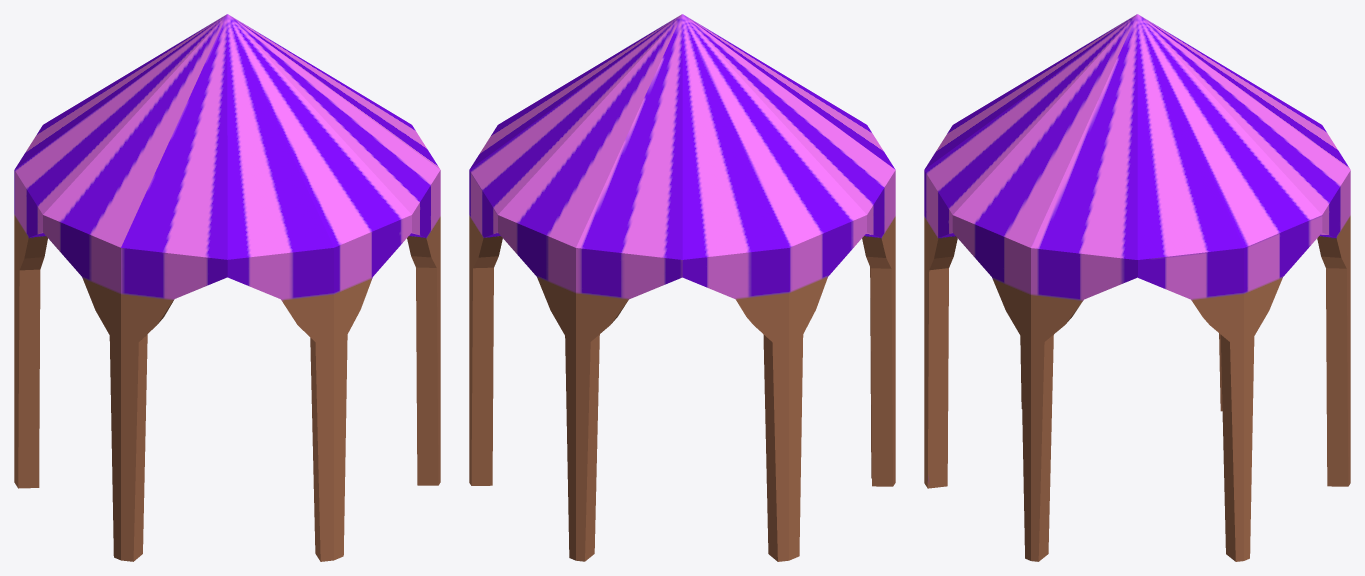
Rendered from Bazzar.fbx.
3 renders of one model, left to right at view 1: azimuth 30°, elevation 25°; view 2: azimuth 150°, elevation 25°; view 3: azimuth 270°, elevation 25°, orthographic.
Parts seen in each view (by area): view 1: Bazzar; view 2: Bazzar; view 3: Bazzar.
Boxes of the visible parts, box(x1,y1,x2,y2) form: Bazzar: box(14, 14, 440, 561); Bazzar: box(469, 14, 895, 561); Bazzar: box(924, 14, 1350, 561).
Size of the model in its own units: 34200 by 41487 by 34200.
